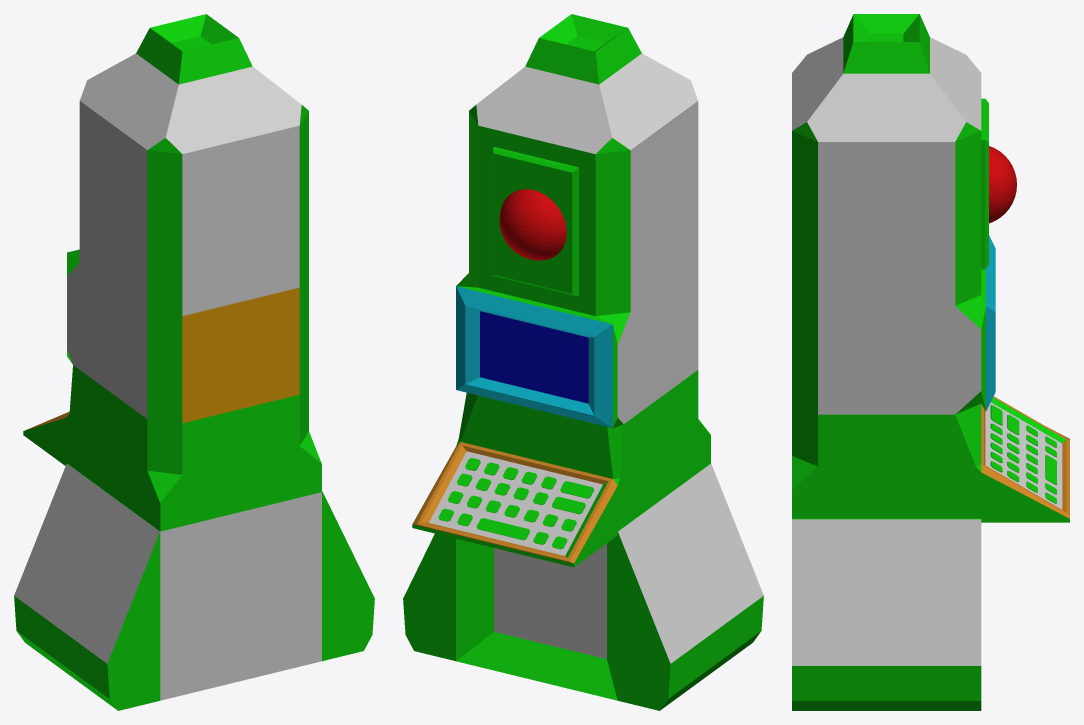
Rendered from Interrupteur.dae.
3 renders of one model, left to right at view 1: azimuth 30°, elevation 25°; view 2: azimuth 150°, elevation 25°; view 3: azimuth 270°, elevation 25°, orthographic.
Parts seen in each view (by area): view 1: Cube.024_Cube.025 (×7); view 2: Cube.024_Cube.025 (×7), Cube.026_Cube.027, Cube.027_Cube.028, Cube.028_Cube.029, Cube.025_Cube.026; view 3: Cube.024_Cube.025 (×6), Cube.028_Cube.029 (×2), Cube.025_Cube.026, Cube.026_Cube.027.
Boxes of the visible parts, x1,y1,x2,y2 form: Cube.024_Cube.025 (×7): (14,14,374,710); Cube.024_Cube.025 (×7): (403,14,763,710); Cube.026_Cube.027: (456,286,612,428); Cube.027_Cube.028: (480,311,588,403); Cube.028_Cube.029: (412,442,617,563); Cube.025_Cube.026: (499,189,566,260); Cube.024_Cube.025 (×6): (792,14,1069,710); Cube.028_Cube.029 (×2): (981,396,1069,518); Cube.025_Cube.026: (989,146,1016,223); Cube.026_Cube.027: (986,235,995,411).
Size of the model in its own units: 3.31 by 7.26 by 2.94.
